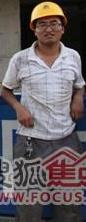boots: (0, 207, 8, 221)
hard-hat: (0, 19, 17, 44)
